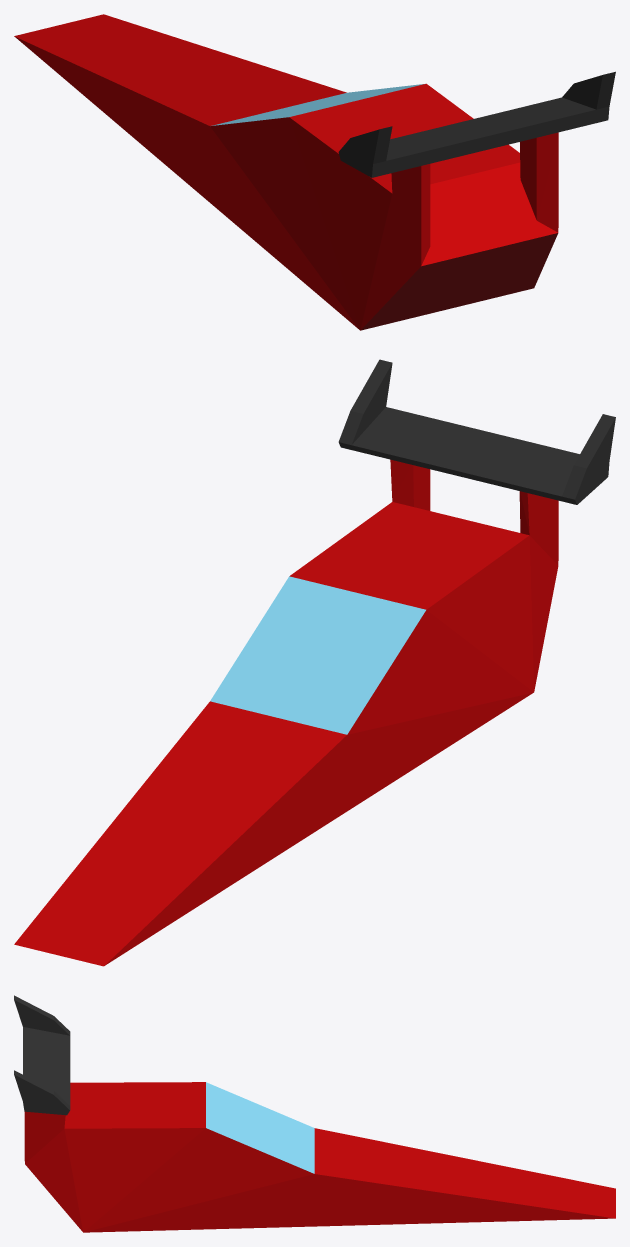
The model's file is car.glb.
3 views of the same model, one above another, from view 1: azimuth 30°, elevation 25°; view 2: azimuth 150°, elevation 25°; view 3: azimuth 270°, elevation 25° (orthographic). The views are drawn at different scales.
Visible parts, largest first — view 1: body; view 2: body; view 3: body.
Part boxes in pixels (x1=…): body: x1=14, y1=14, x2=615, y2=330; body: x1=14, y1=359, x2=615, y2=966; body: x1=14, y1=995, x2=615, y2=1232.
Size of the model in its own units: 3.45 by 3.42 by 11.08.
1 material, 1 textured.
